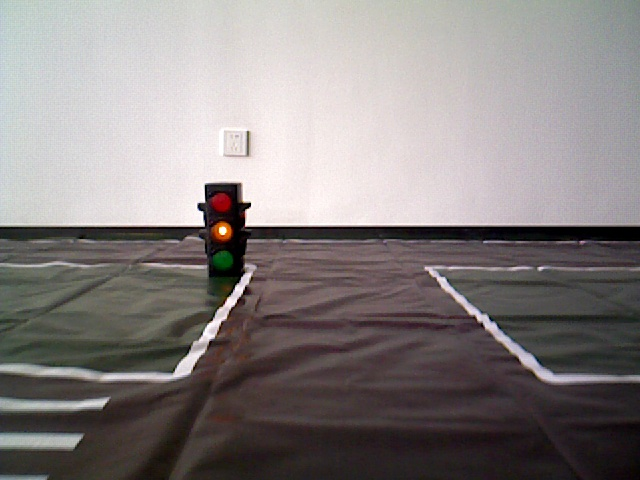yellow: (204, 185, 246, 280)
